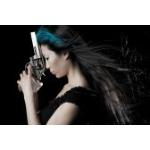Pistol: (20, 29, 46, 87)
